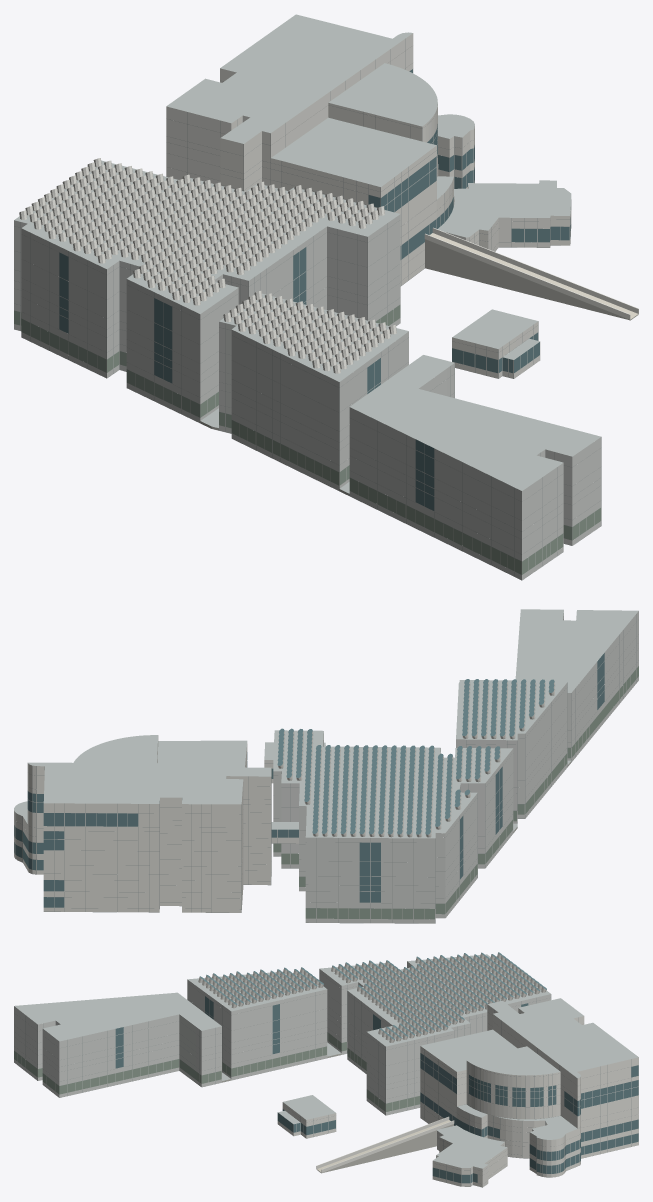
File: high-museum-of-art-near.glb
3 renders of one model, top to bottom at view 1: azimuth 30°, elevation 25°; view 2: azimuth 150°, elevation 25°; view 3: azimuth 270°, elevation 25°, orthographic. The views are drawn at different scales.
Visible parts, largest first — view 1: high-museum-of-art-0-aluminum, high-museum-of-art-0-white, high-museum-of-art-0-roof, high-museum-of-art-0-glass, high-museum-of-art-0-glow, high-museum-of-art-0-joint, high-museum-of-art-0-foundation, high-museum-of-art-0-path; view 2: high-museum-of-art-0-roof, high-museum-of-art-0-white, high-museum-of-art-0-aluminum, high-museum-of-art-0-glass, high-museum-of-art-0-joint, high-museum-of-art-0-glow; view 3: high-museum-of-art-0-white, high-museum-of-art-0-aluminum, high-museum-of-art-0-roof, high-museum-of-art-0-glass, high-museum-of-art-0-glow, high-museum-of-art-0-joint, high-museum-of-art-0-foundation, high-museum-of-art-0-path.
Part boxes in pixels (x1,y1,x2,y2): high-museum-of-art-0-aluminum: [14, 214, 601, 579]; high-museum-of-art-0-white: [19, 33, 638, 378]; high-museum-of-art-0-roof: [14, 14, 600, 493]; high-museum-of-art-0-glass: [59, 69, 570, 510]; high-museum-of-art-0-glow: [14, 305, 601, 574]; high-museum-of-art-0-joint: [14, 38, 601, 580]; high-museum-of-art-0-foundation: [200, 239, 638, 495]; high-museum-of-art-0-path: [430, 233, 637, 318]; high-museum-of-art-0-roof: [14, 609, 638, 838]; high-museum-of-art-0-white: [14, 681, 555, 912]; high-museum-of-art-0-aluminum: [273, 611, 638, 923]; high-museum-of-art-0-glass: [14, 653, 604, 907]; high-museum-of-art-0-joint: [15, 614, 638, 923]; high-museum-of-art-0-glow: [273, 666, 638, 919]; high-museum-of-art-0-white: [198, 952, 638, 1187]; high-museum-of-art-0-aluminum: [14, 961, 550, 1115]; high-museum-of-art-0-roof: [14, 954, 638, 1168]; high-museum-of-art-0-glass: [115, 952, 638, 1183]; high-museum-of-art-0-glow: [14, 1032, 420, 1111]; high-museum-of-art-0-joint: [14, 973, 637, 1187]; high-museum-of-art-0-foundation: [222, 1053, 453, 1173]; high-museum-of-art-0-path: [317, 1120, 450, 1172].
Size of the model in its own units: 112 by 28 by 180.
